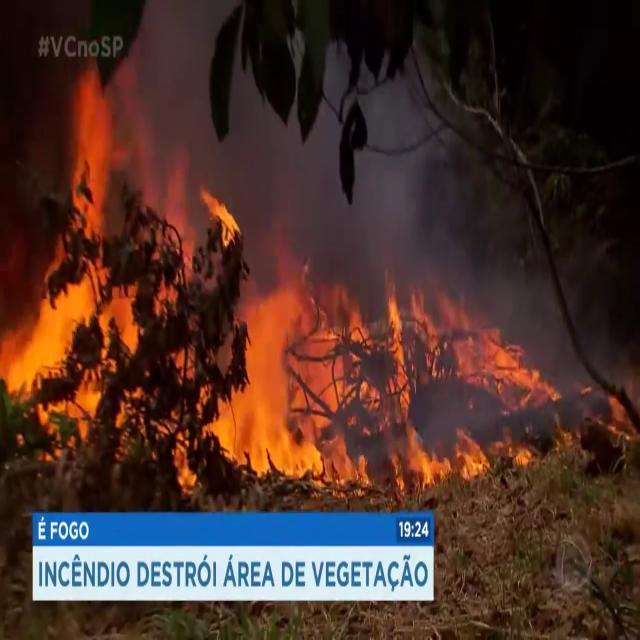Fire: (203, 260, 560, 490), (1, 72, 190, 458)
